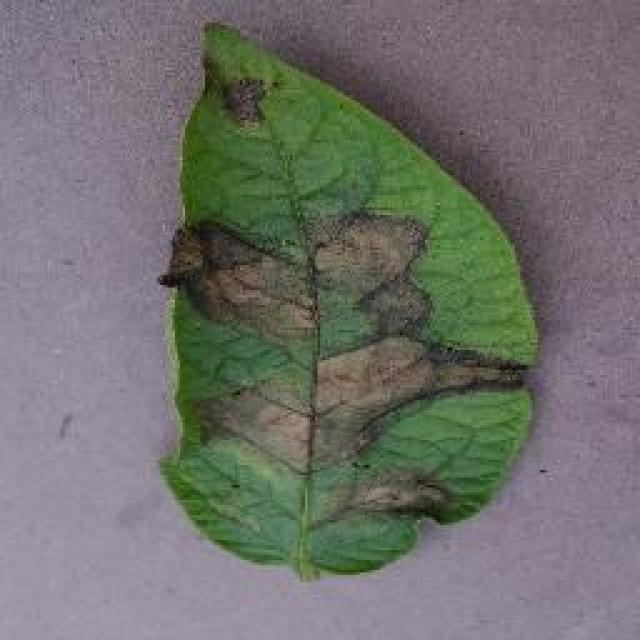late_blight: (152, 15, 542, 583)
